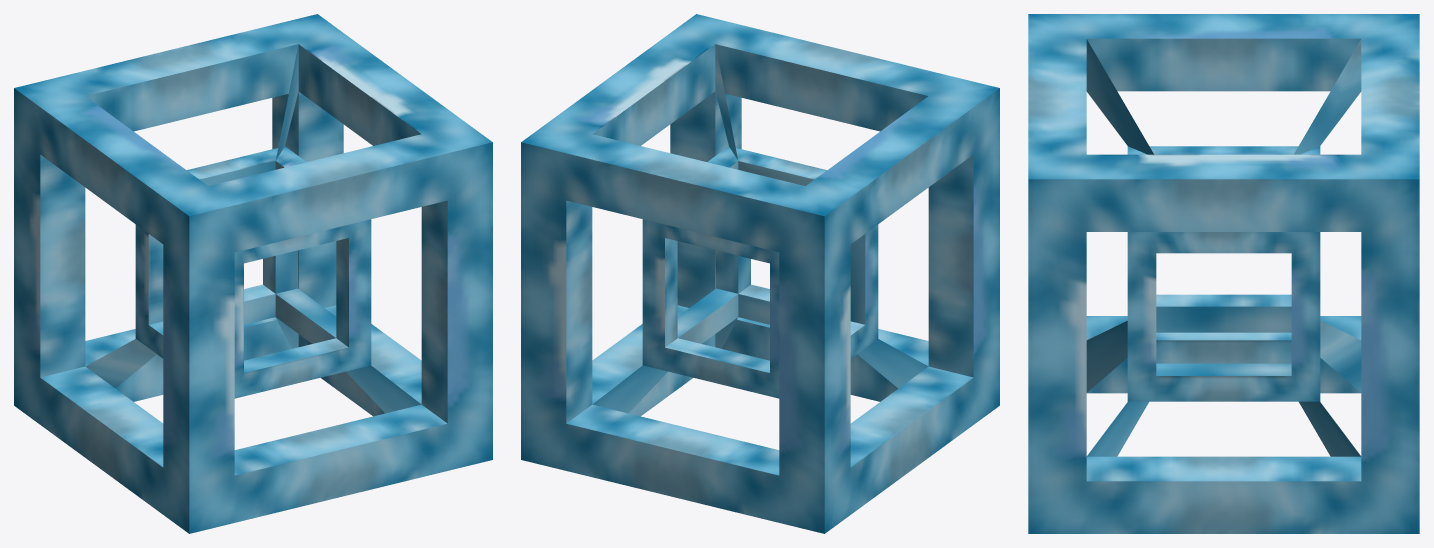
The model's file is tesseract.glb.
3 views of the same model, side by side, from view 1: azimuth 30°, elevation 25°; view 2: azimuth 150°, elevation 25°; view 3: azimuth 270°, elevation 25° (orthographic). The views are drawn at different scales.
Parts seen in each view (by area): view 1: Cube; view 2: Cube; view 3: Cube.
Part boxes in pixels (box(x1,y1,x2,y2)): Cube: box(14, 14, 492, 533); Cube: box(521, 14, 999, 533); Cube: box(1028, 14, 1419, 533).
Bounding box in the file's own units: 0.4 × 0.4 × 0.4.
Materials: 1 (1 with a texture image).
